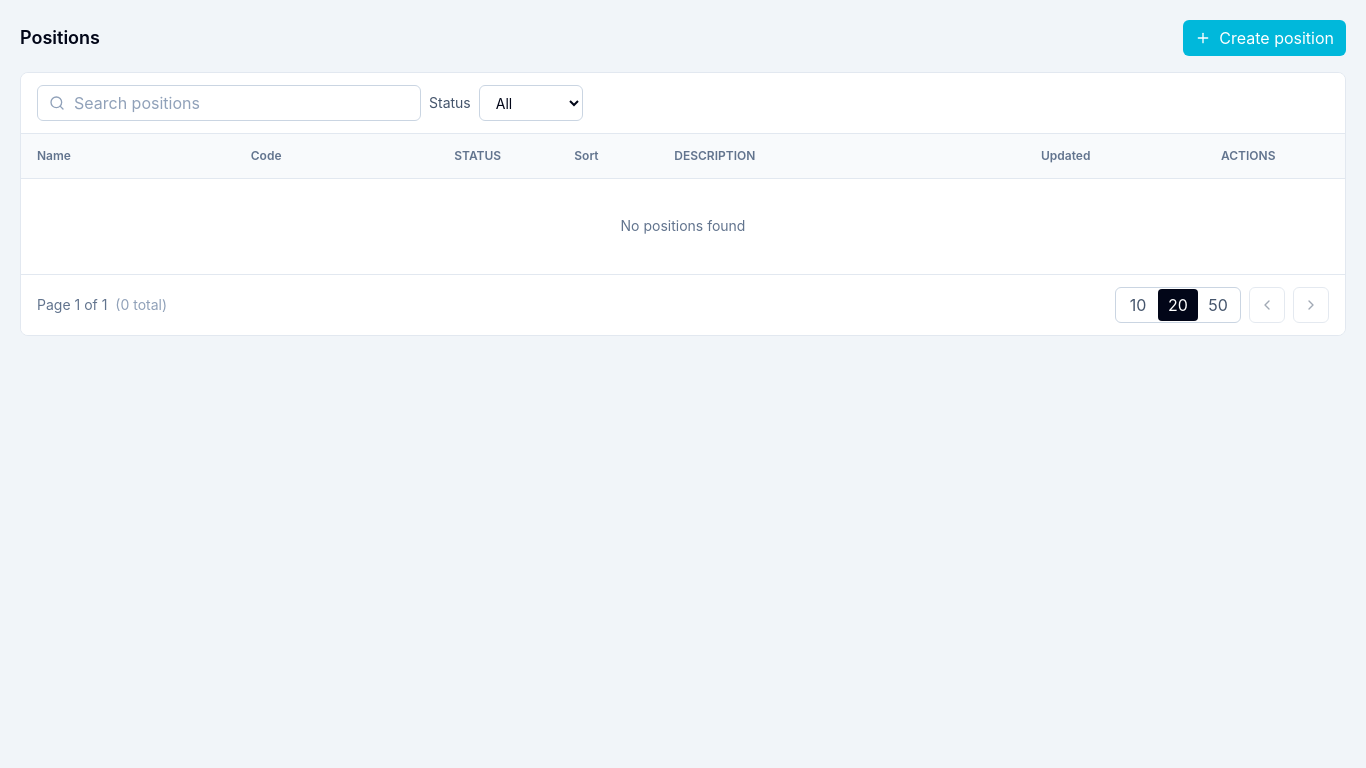
Test case: PositionsPage › rejects negative sort order and prevents submit
expect the text "No positions found" is shown: met, box [21,178,1345,274]
Click the button "Create position": (1265, 38) [1183,20,1346,56]
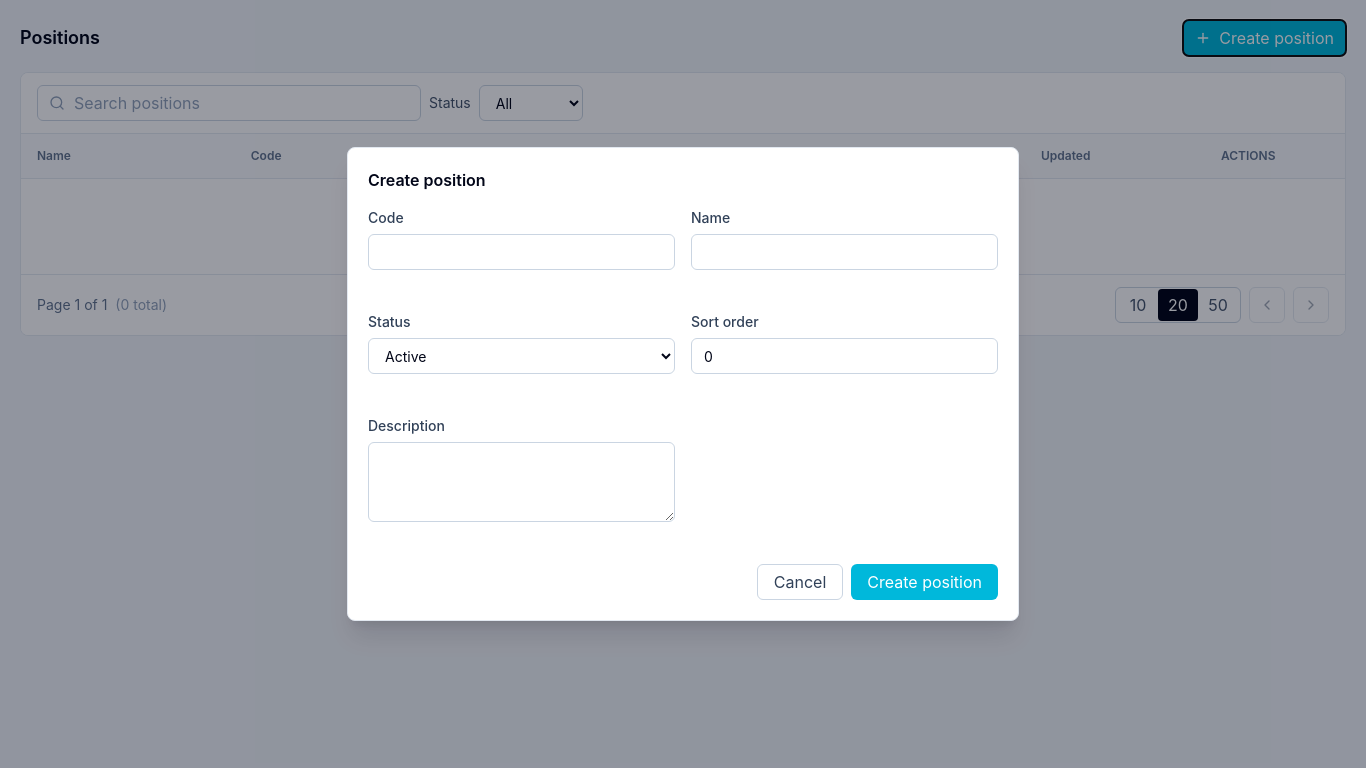
In the field labelled "Code": (522, 252) [368,234,675,270], type "engineering_manager"
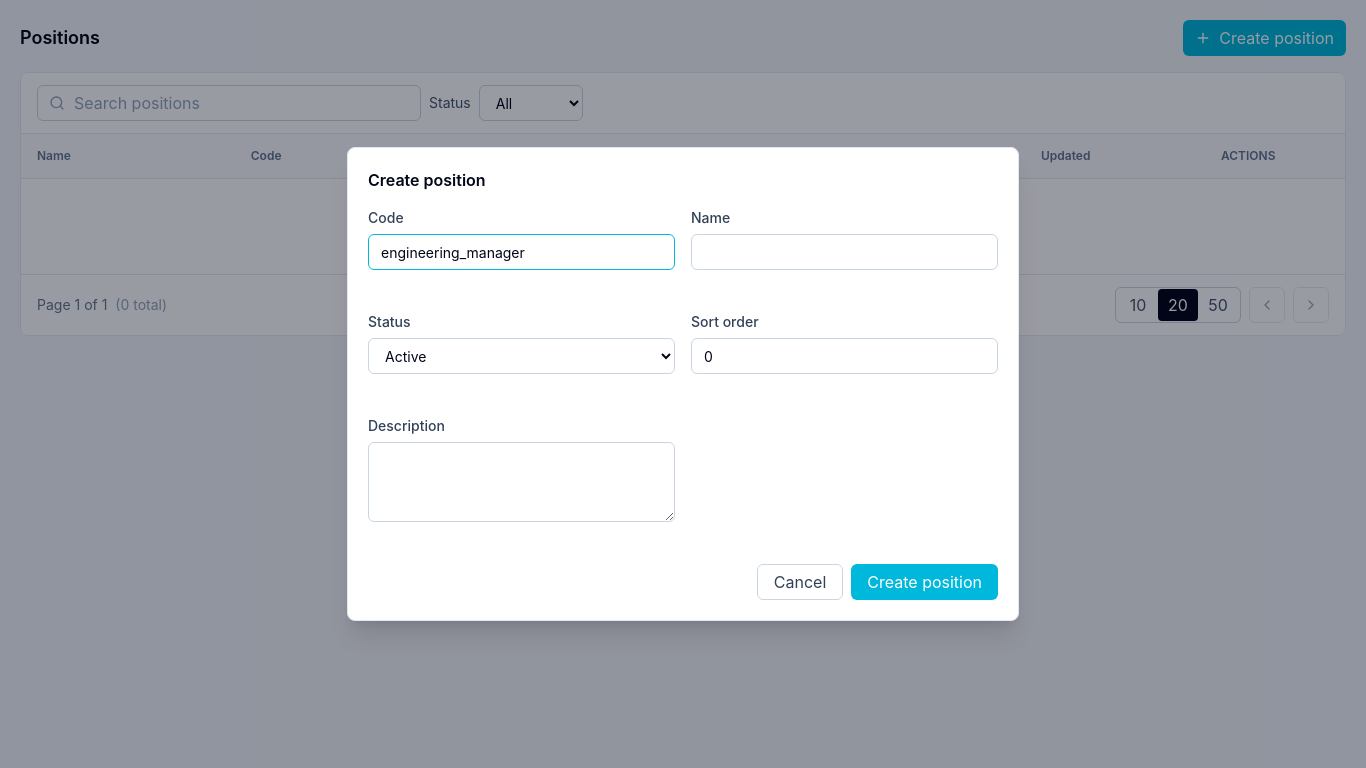
In the field labelled "Name": (844, 252) [691,234,998,270], type "Engineering Manager"
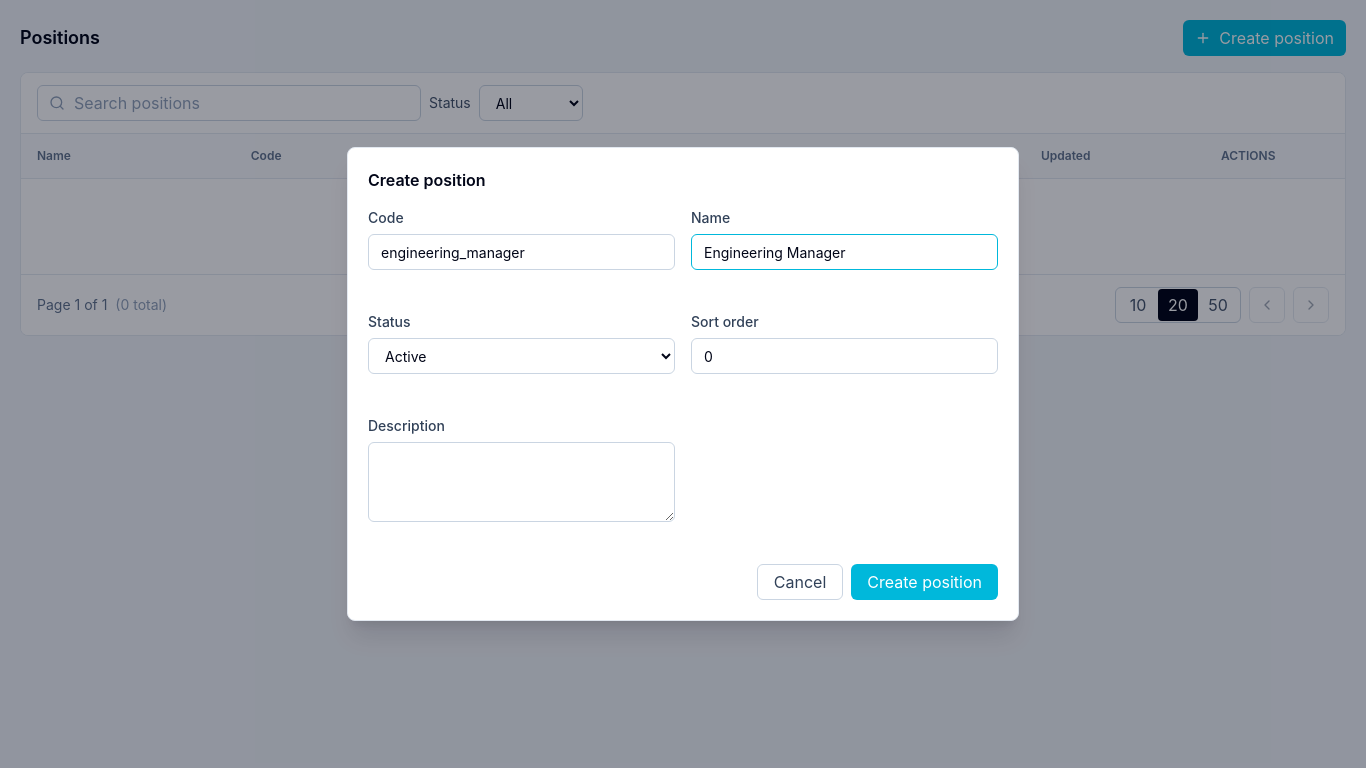
Replace the text in the number field labelled "Sort order" with "-1": (844, 356) [691,338,998,374]
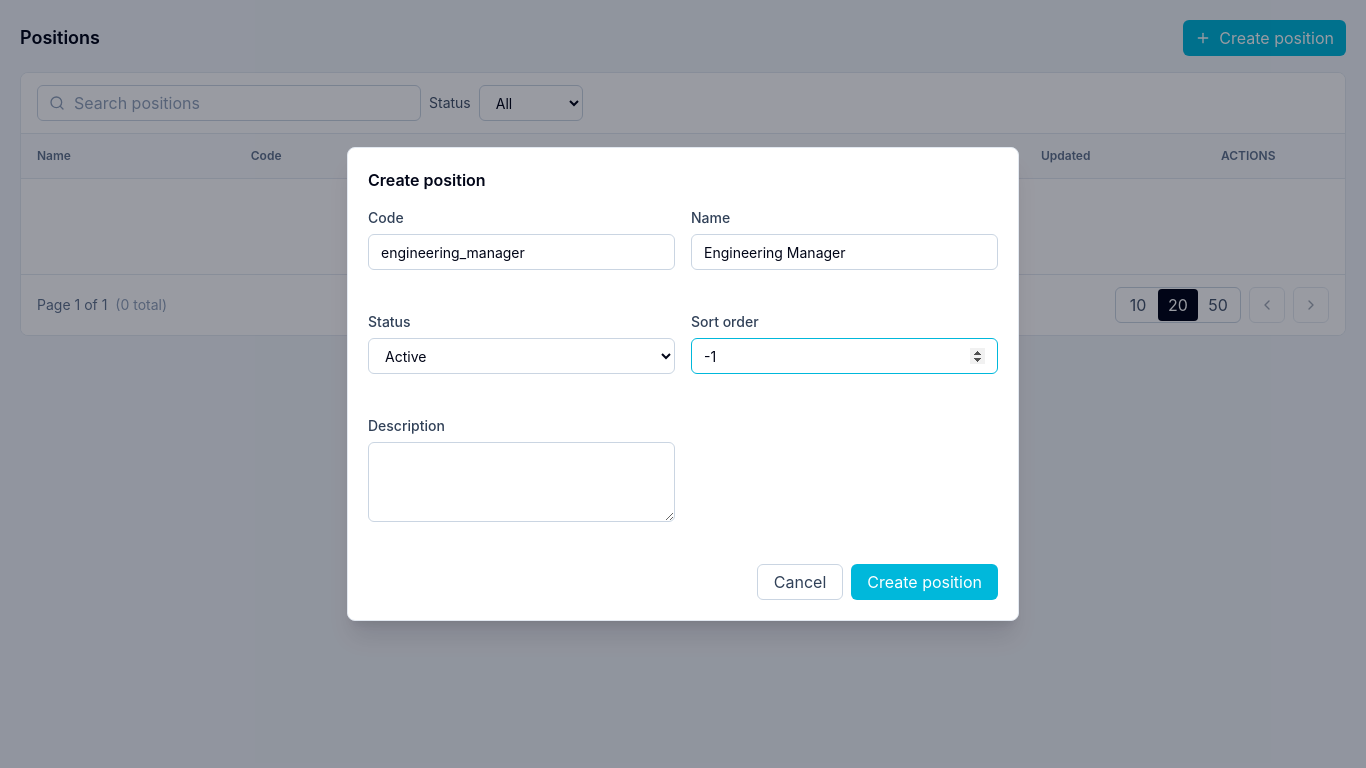
Click the button "Create position": (925, 582) [851,564,998,600]
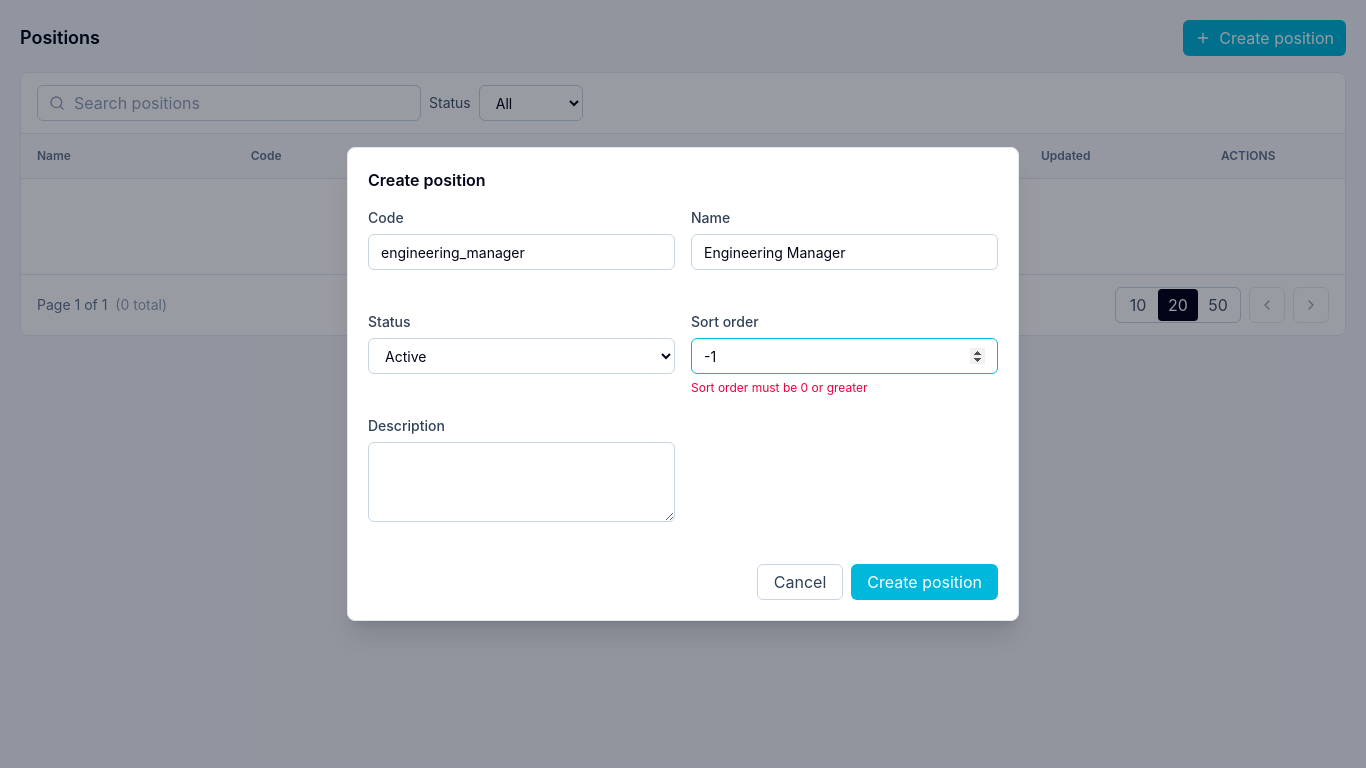
expect the text "Sort order must be 0 or greater" is shown: met, box [691,380,868,395]
